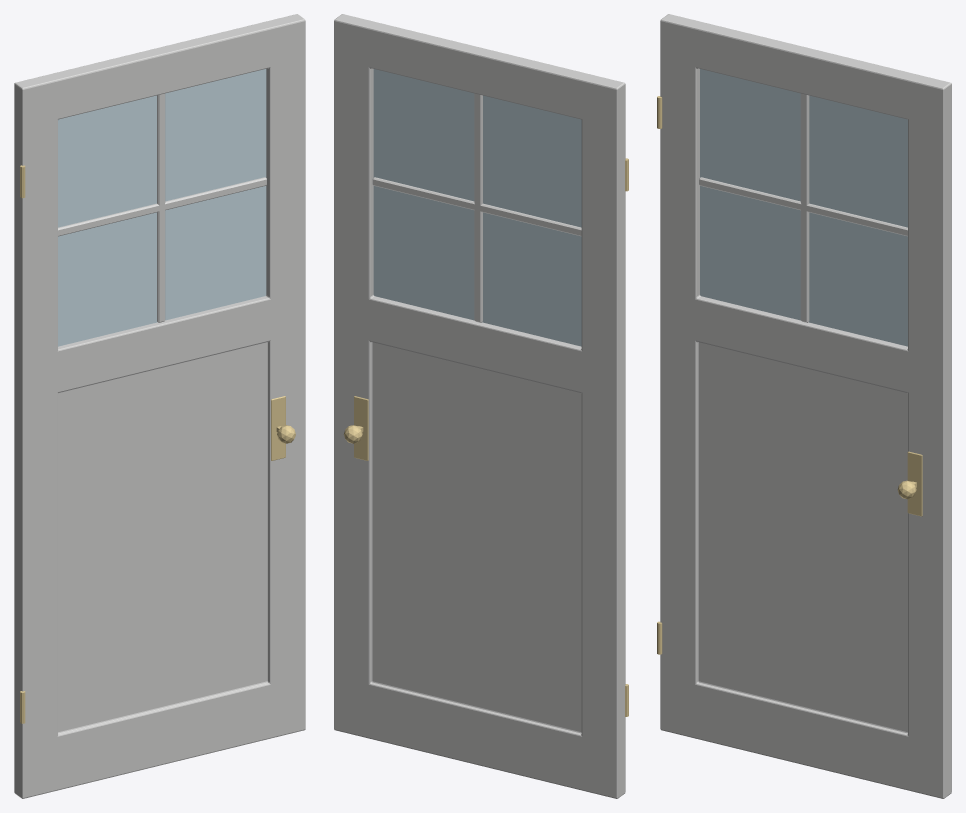
The model's file is door_leaf_back.glb.
3 renders of one model, left to right at view 1: azimuth 30°, elevation 25°; view 2: azimuth 150°, elevation 25°; view 3: azimuth 330°, elevation 25°, orthographic.
Parts seen in each view (by area): view 1: door_leaf_back_frame, door_leaf_back_glass, door_leaf_back_brass; view 2: door_leaf_back_frame, door_leaf_back_glass, door_leaf_back_brass; view 3: door_leaf_back_frame, door_leaf_back_glass, door_leaf_back_brass.
Boxes of the visible parts, x1,y1,x2,y2 form: door_leaf_back_frame: [14, 14, 305, 798]; door_leaf_back_glass: [58, 69, 266, 346]; door_leaf_back_brass: [20, 165, 295, 723]; door_leaf_back_frame: [334, 14, 625, 798]; door_leaf_back_glass: [373, 69, 581, 346]; door_leaf_back_brass: [343, 158, 628, 716]; door_leaf_back_frame: [660, 14, 951, 798]; door_leaf_back_glass: [700, 69, 907, 346]; door_leaf_back_brass: [657, 96, 922, 654].
Size of the model in its own units: 0.968 by 2.3 by 0.206.
